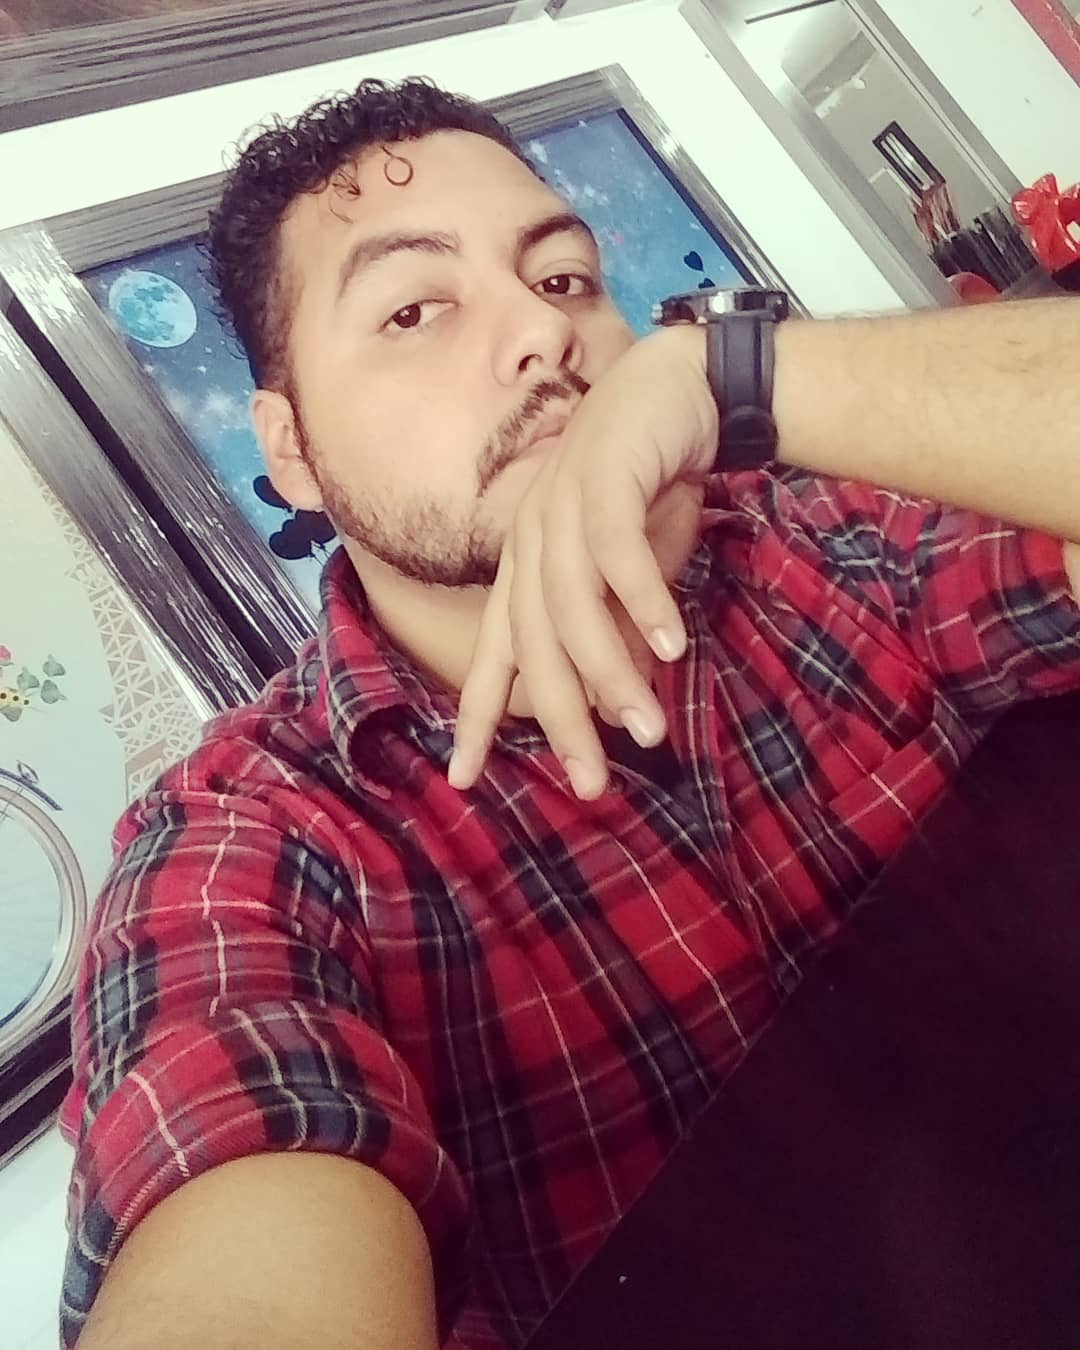Yoshi: (78, 53, 797, 1040)
